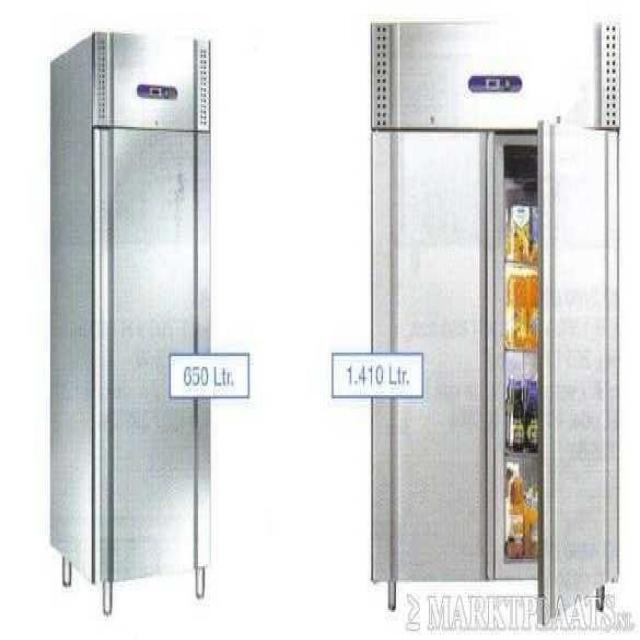refrigerator: (370, 21, 622, 586), (91, 31, 212, 583)
